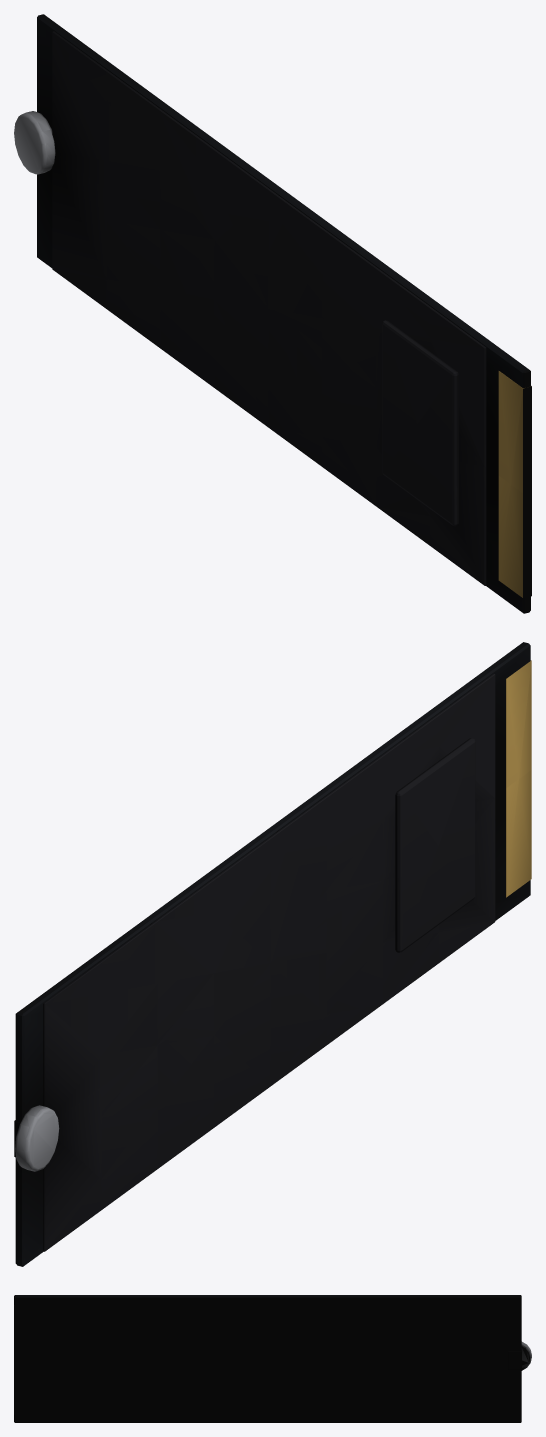
File: ssd.glb
The picture shows the model from 3 angles, top to bottom: view 1: azimuth 30°, elevation 25°; view 2: azimuth 150°, elevation 25°; view 3: azimuth 270°, elevation 25°; orthographic projection. The views are drawn at different scales.
Visible parts, largest first — view 1: X_ssd; view 2: X_ssd; view 3: X_ssd.
Part boxes in pixels (x1=…): X_ssd: x1=14, y1=14, x2=531, y2=613; X_ssd: x1=14, y1=642, x2=531, y2=1266; X_ssd: x1=14, y1=1295, x2=531, y2=1422.
Bounding box in the file's own units: 0.0022 × 0.022 × 0.0816.
